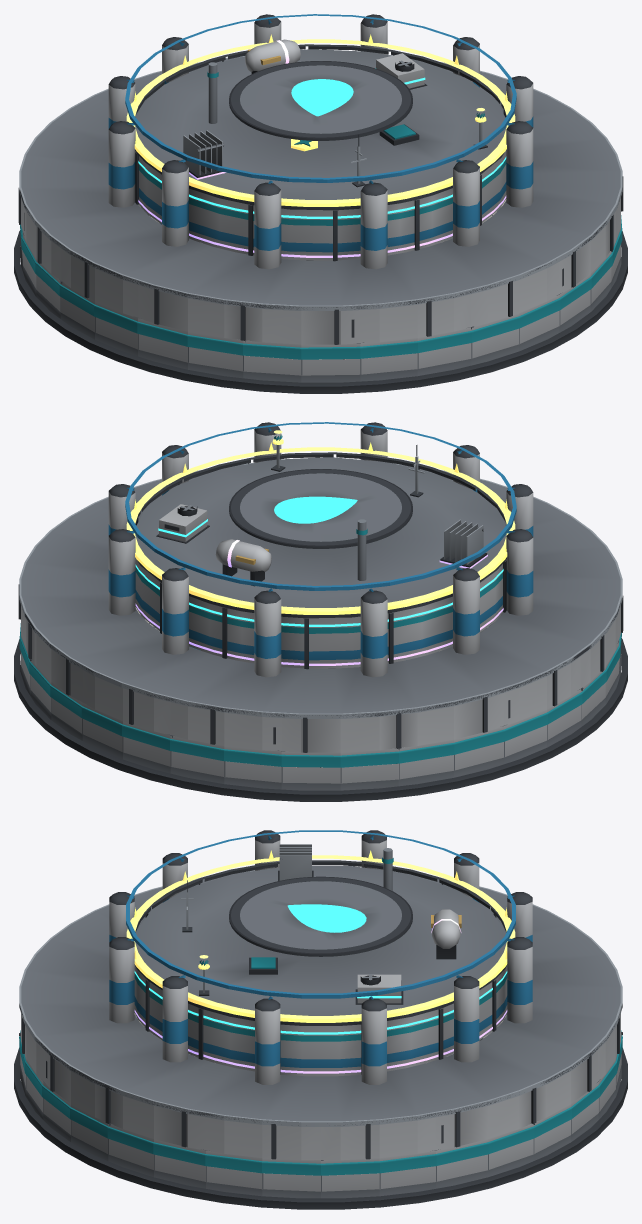
The model's file is water_recycler_xl_far.glb.
3 views of the same model, one above another, from view 1: azimuth 30°, elevation 25°; view 2: azimuth 150°, elevation 25°; view 3: azimuth 270°, elevation 25° (orthographic).
Parts seen in each view (by area): view 1: Roof, Base, L5, L2, L4, L3; view 2: Roof, Base, L5, L2, L4, L3; view 3: Roof, Base, L5, L2, L4, L3.
Part boxes in pixels (x1=…): Roof: x1=18, y1=14, x2=623, y2=344; Base: x1=14, y1=199, x2=627, y2=393; L5: x1=126, y1=34, x2=515, y2=206; L2: x1=19, y1=54, x2=622, y2=310; L4: x1=138, y1=39, x2=506, y2=257; L3: x1=138, y1=53, x2=506, y2=218; Roof: x1=18, y1=422, x2=623, y2=752; Base: x1=14, y1=607, x2=627, y2=801; L5: x1=126, y1=430, x2=515, y2=614; L2: x1=19, y1=445, x2=622, y2=718; L4: x1=135, y1=519, x2=503, y2=665; L3: x1=135, y1=504, x2=503, y2=626; Roof: x1=19, y1=830, x2=622, y2=1160; Base: x1=14, y1=1013, x2=627, y2=1209; L5: x1=126, y1=850, x2=515, y2=1022; L2: x1=19, y1=870, x2=622, y2=1126; L4: x1=134, y1=844, x2=507, y2=1073; L3: x1=134, y1=971, x2=507, y2=1034.
Bounding box in the file's own units: 18.96 × 6.6 × 18.96.
